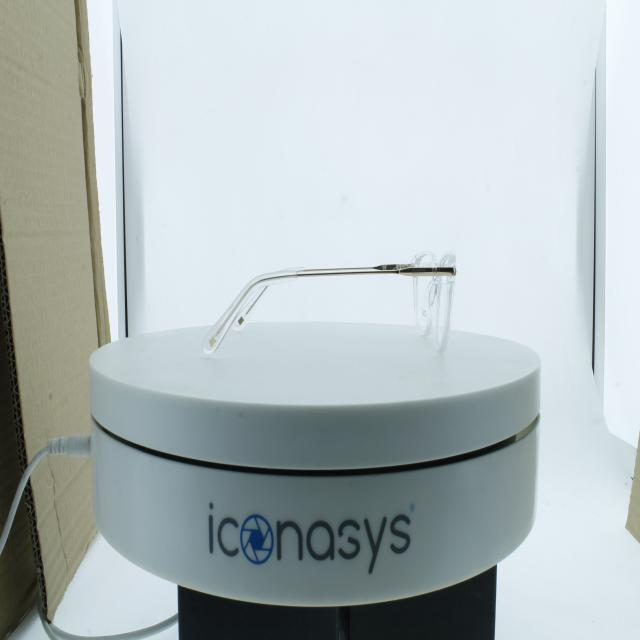Specs: (201, 238, 461, 366)
